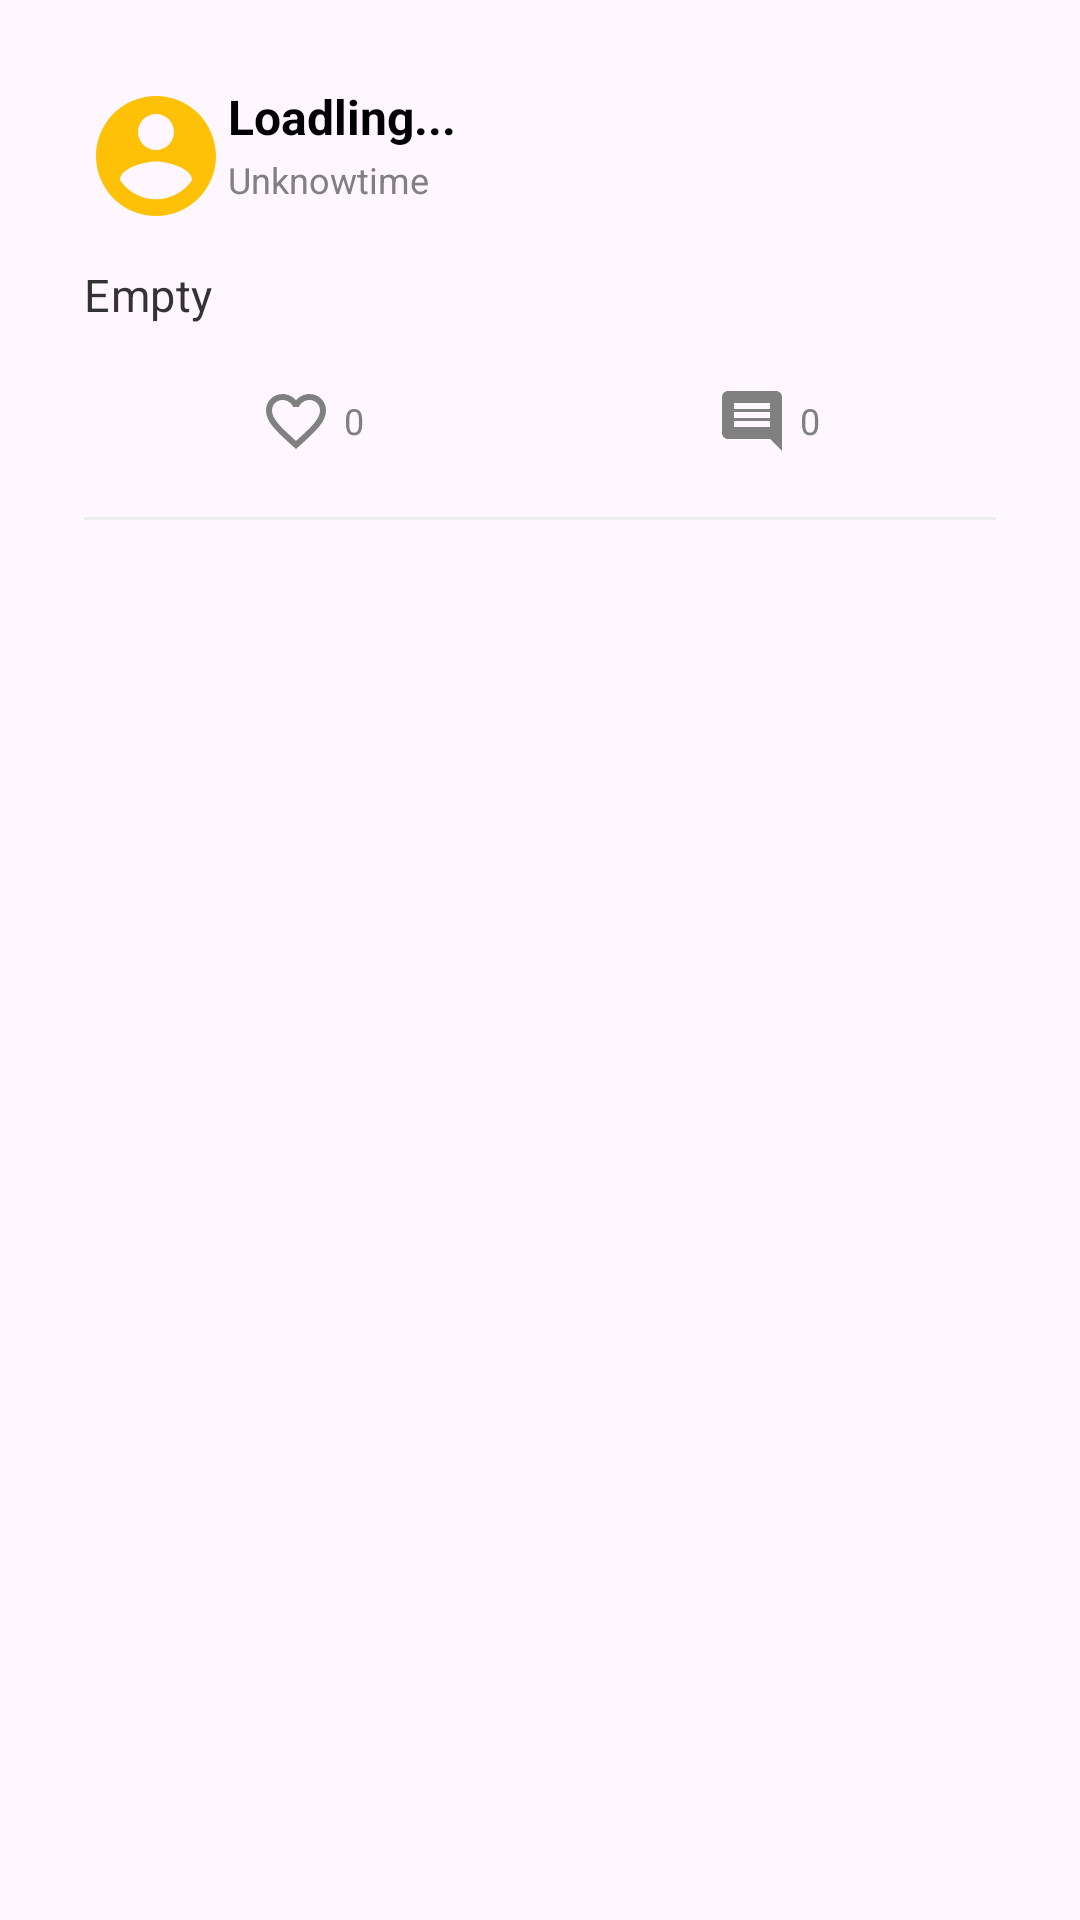

Where to tap for icons on this 1080x1920 app screen, as (x,y):
comment: (752,421)
like: (296,421)
